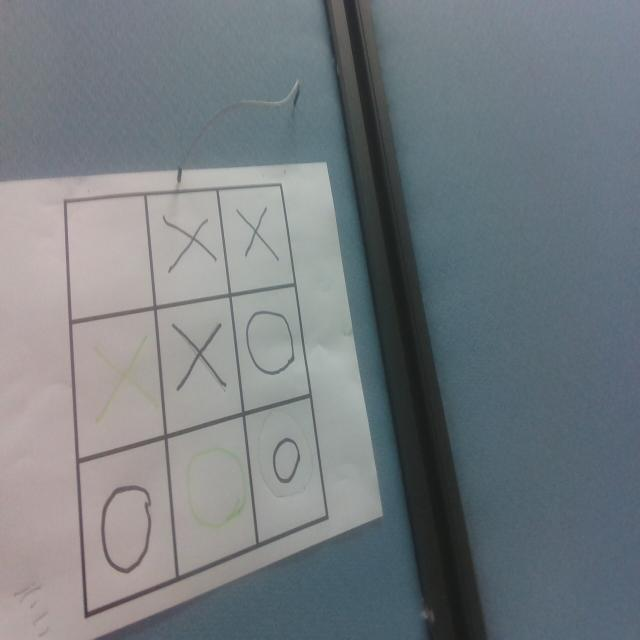null: (68, 196, 154, 321)
o: (186, 445, 253, 528), (100, 482, 154, 575), (244, 307, 295, 376), (271, 435, 301, 484)
table: (66, 188, 334, 623)
x: (96, 341, 160, 421), (175, 322, 224, 393), (163, 216, 218, 272), (238, 205, 278, 262)
